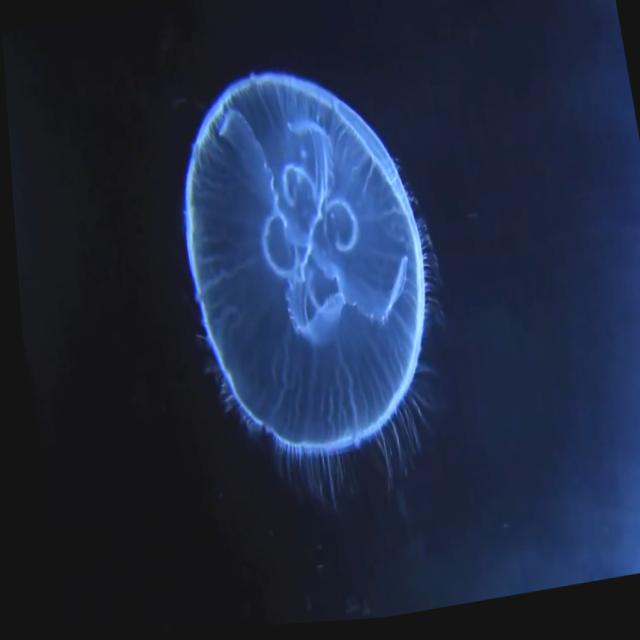Moon-jellyfish: (177, 71, 425, 456)
